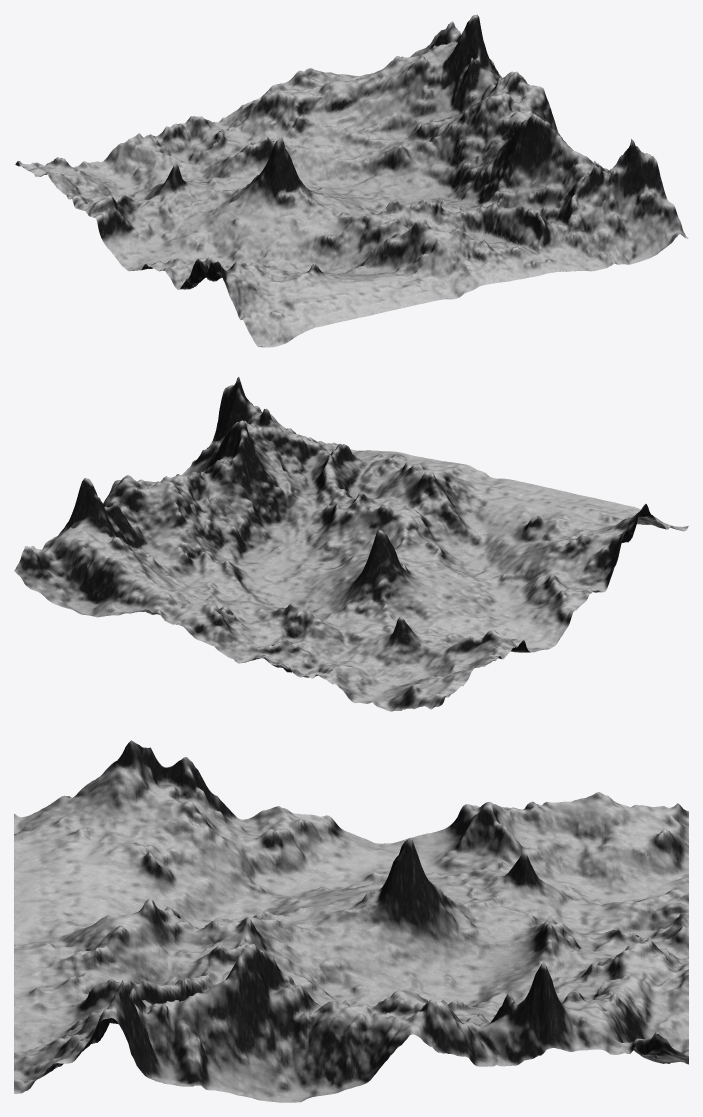
File: 雪山景观.glb
The picture shows the model from 3 angles, top to bottom: view 1: azimuth 30°, elevation 25°; view 2: azimuth 150°, elevation 25°; view 3: azimuth 270°, elevation 25°; orthographic projection. The views are drawn at different scales.
Parts seen in each view (by area): view 1: Plane.001_0; view 2: Plane.001_0; view 3: Plane.001_0.
Part boxes in pixels (bbox=[...]): Plane.001_0: bbox=[15, 14, 688, 347]; Plane.001_0: bbox=[14, 377, 688, 711]; Plane.001_0: bbox=[14, 740, 688, 1102].
Size of the model in its own units: 100 by 25 by 100.
1 material, 1 textured.
